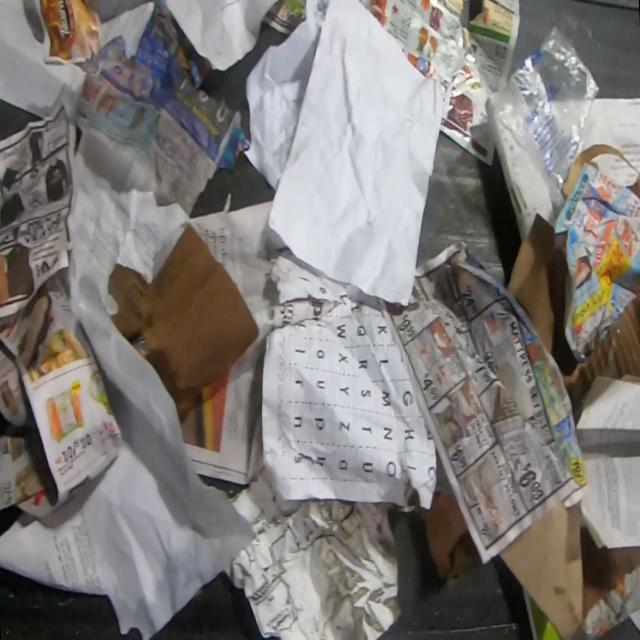cardboard: (496, 500, 584, 640), (506, 210, 577, 375), (564, 288, 640, 426)
soft_plastic: (493, 22, 601, 212)
